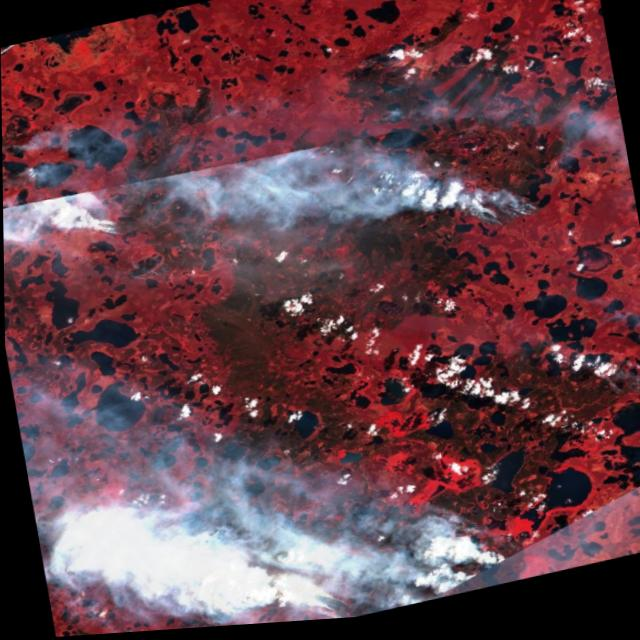fire: (453, 188, 548, 245), (2, 130, 59, 191), (300, 590, 356, 625), (87, 204, 127, 243)
